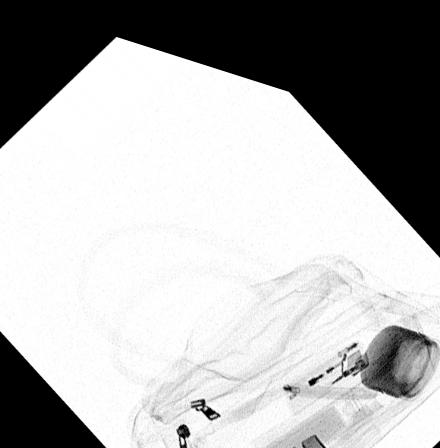Lighter: (283, 317, 370, 395)
